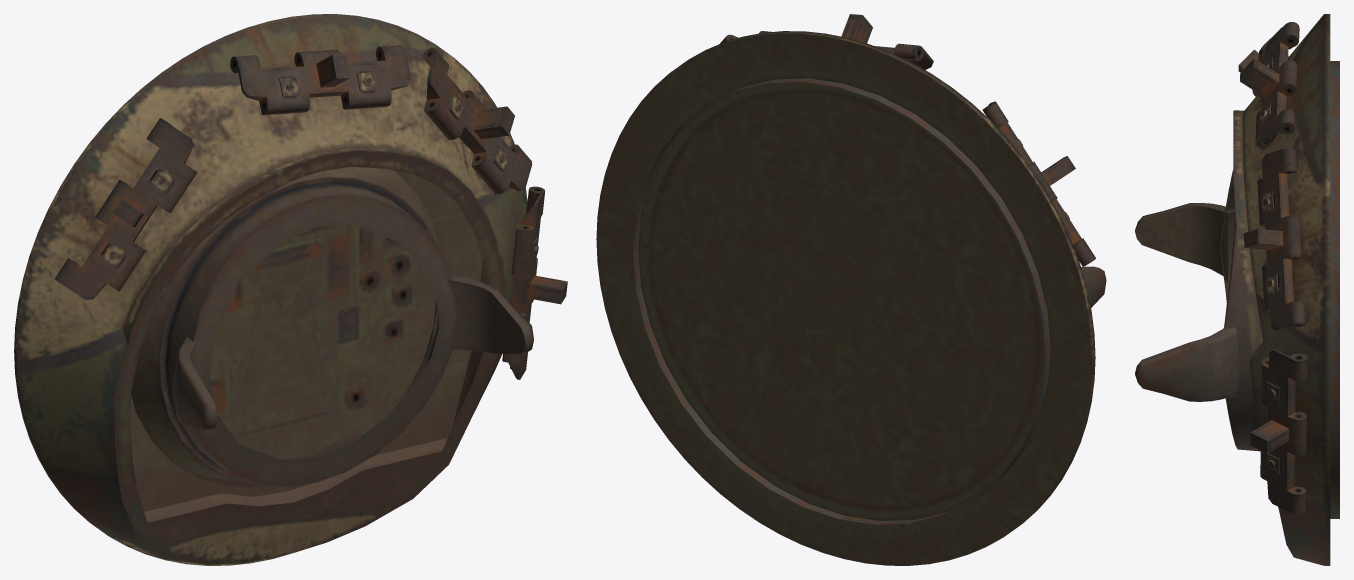
Rendered from Turret_01.glb.
The picture shows the model from 3 angles, left to right: view 1: azimuth 30°, elevation 25°; view 2: azimuth 150°, elevation 25°; view 3: azimuth 270°, elevation 25°; orthographic projection. The views are drawn at different scales.
Parts seen in each view (by area): view 1: set_0_group_0; view 2: set_0_group_0; view 3: set_0_group_0.
Boxes of the visible parts, <box> form: set_0_group_0: <box>14,14,567,565</box>; set_0_group_0: <box>596,14,1106,565</box>; set_0_group_0: <box>1135,14,1339,565</box>.
Size of the model in its own units: 1.88 by 1.85 by 0.686.
1 material, 1 textured.
